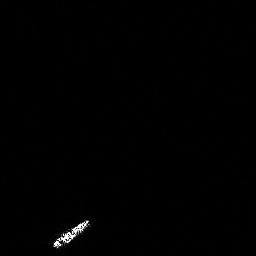ship: (51, 218, 90, 249)
